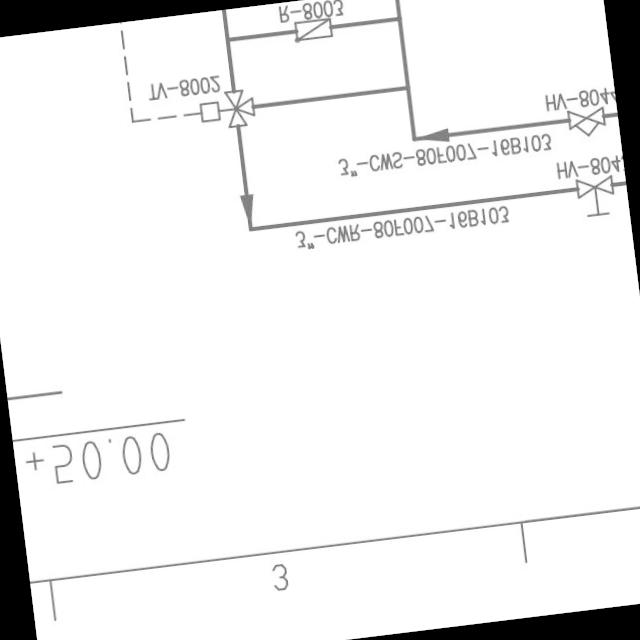3W: (222, 84, 256, 132)
CV2: (289, 14, 336, 50)
HV: (571, 174, 621, 226)
